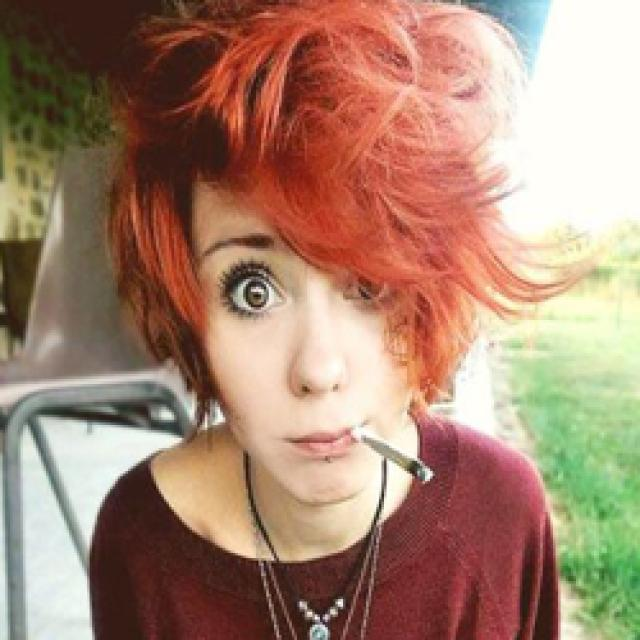Smooking: (352, 424, 442, 494)
